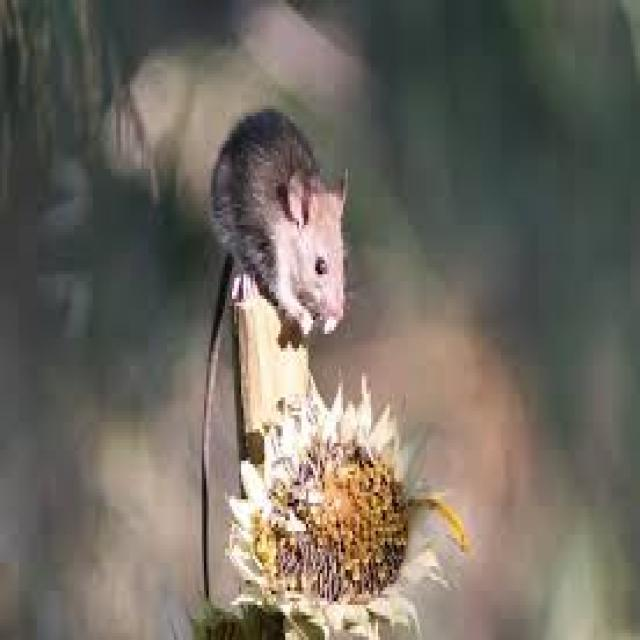Rat: (179, 64, 372, 342)
